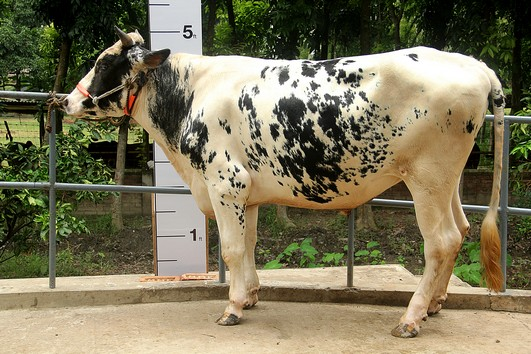cow: (60, 23, 505, 341)
